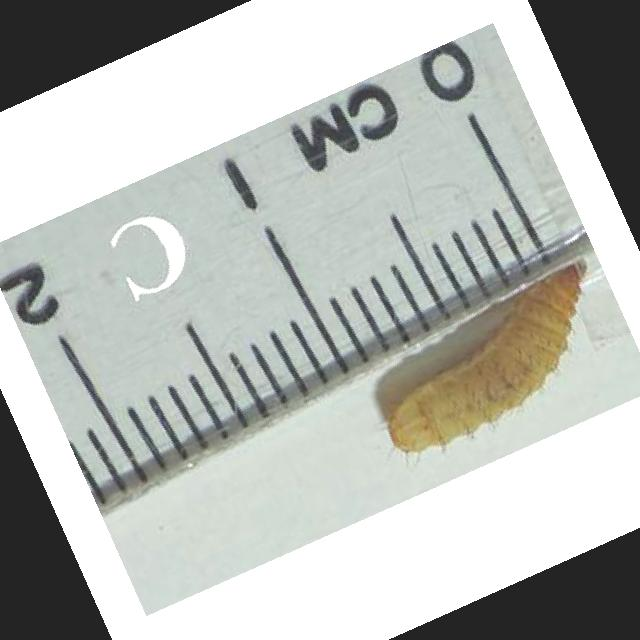Maggot: (379, 262, 594, 460)
